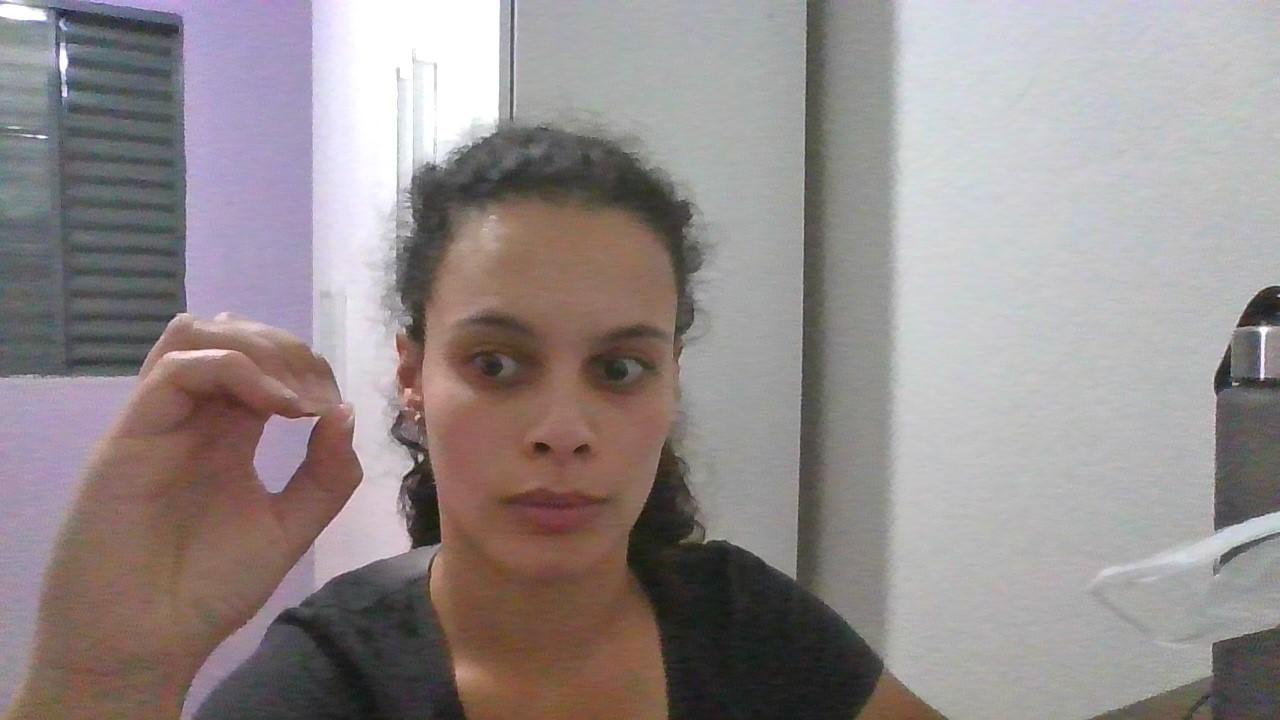O: (46, 302, 384, 658)
